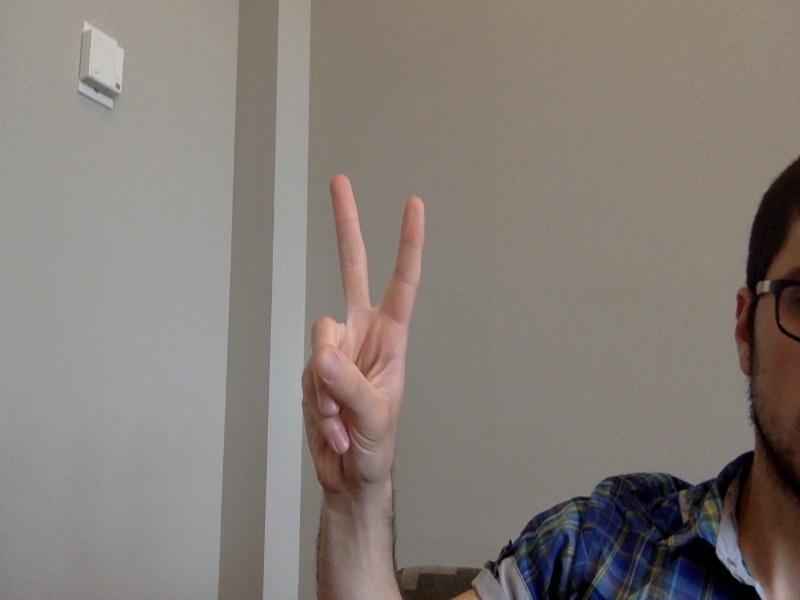2-hand: (302, 174, 426, 505)
